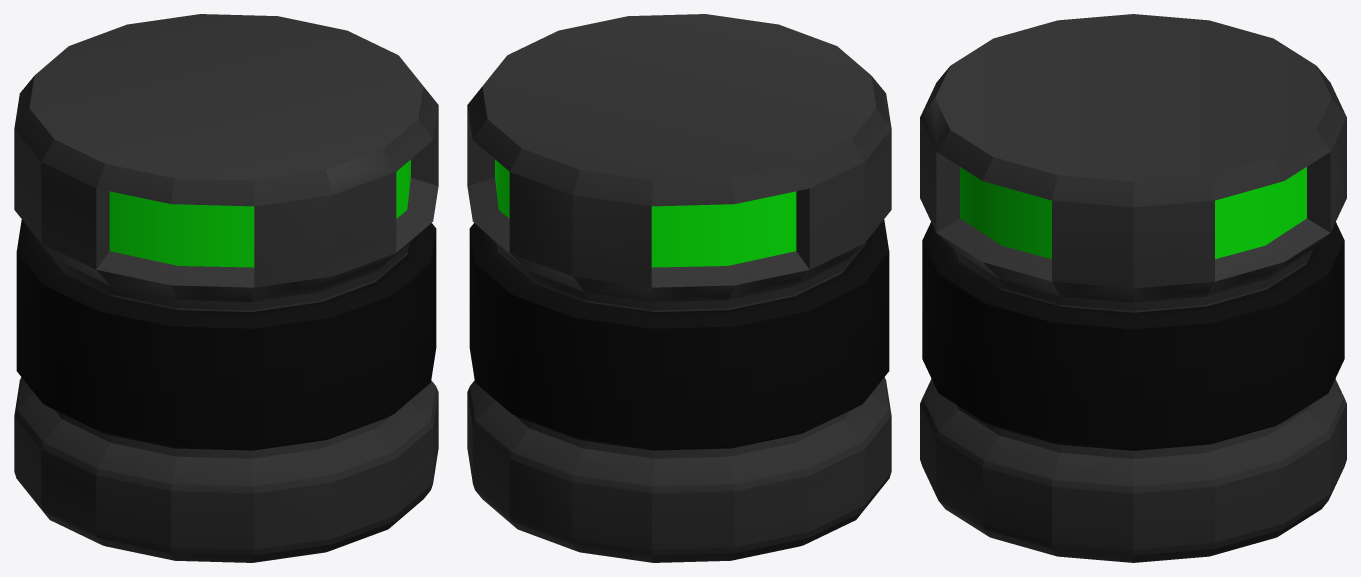
File: Msh_MotorRotate.FBX
The picture shows the model from 3 angles, left to right: view 1: azimuth 30°, elevation 25°; view 2: azimuth 150°, elevation 25°; view 3: azimuth 270°, elevation 25°; orthographic projection.
Parts seen in each view (by area): view 1: MotorBase; view 2: MotorBase; view 3: MotorBase.
Boxes of the visible parts, x1,y1,x2,y2 form: MotorBase: [14, 14, 438, 562]; MotorBase: [467, 14, 891, 562]; MotorBase: [920, 14, 1346, 562].
Size of the model in its own units: 15.15 by 15.15 by 14.94.
